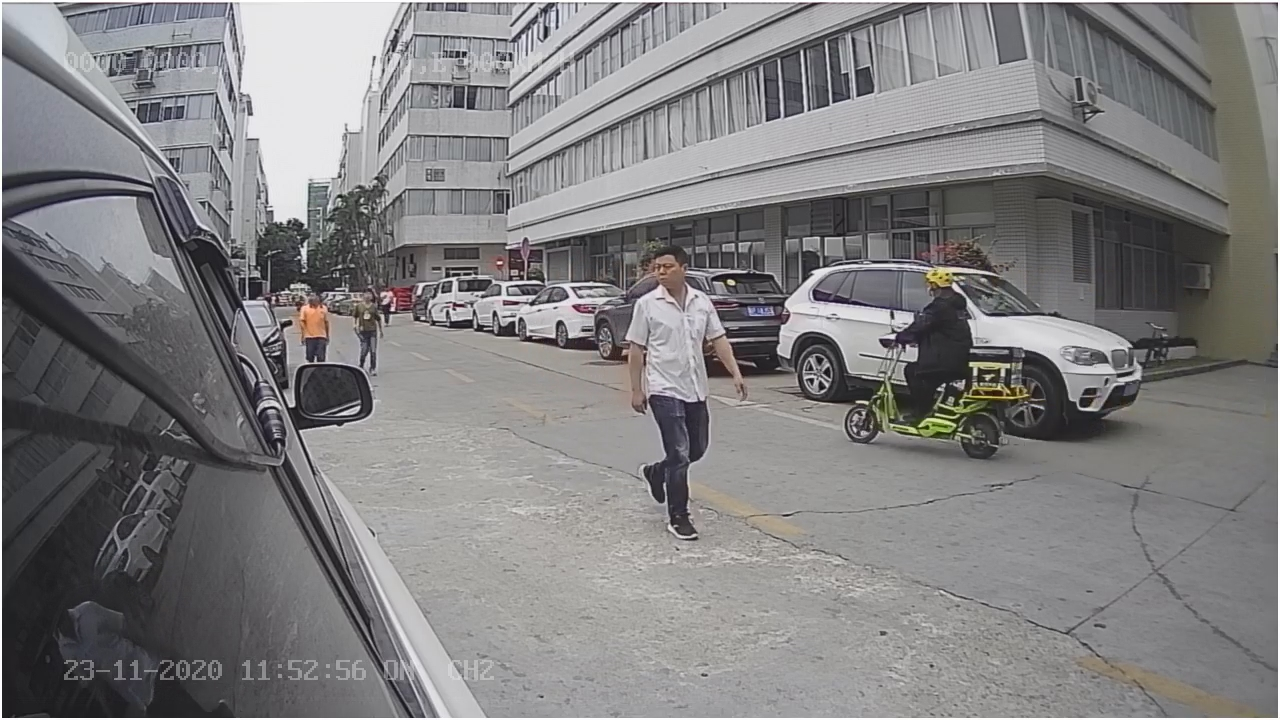person: (622, 244, 735, 542)
